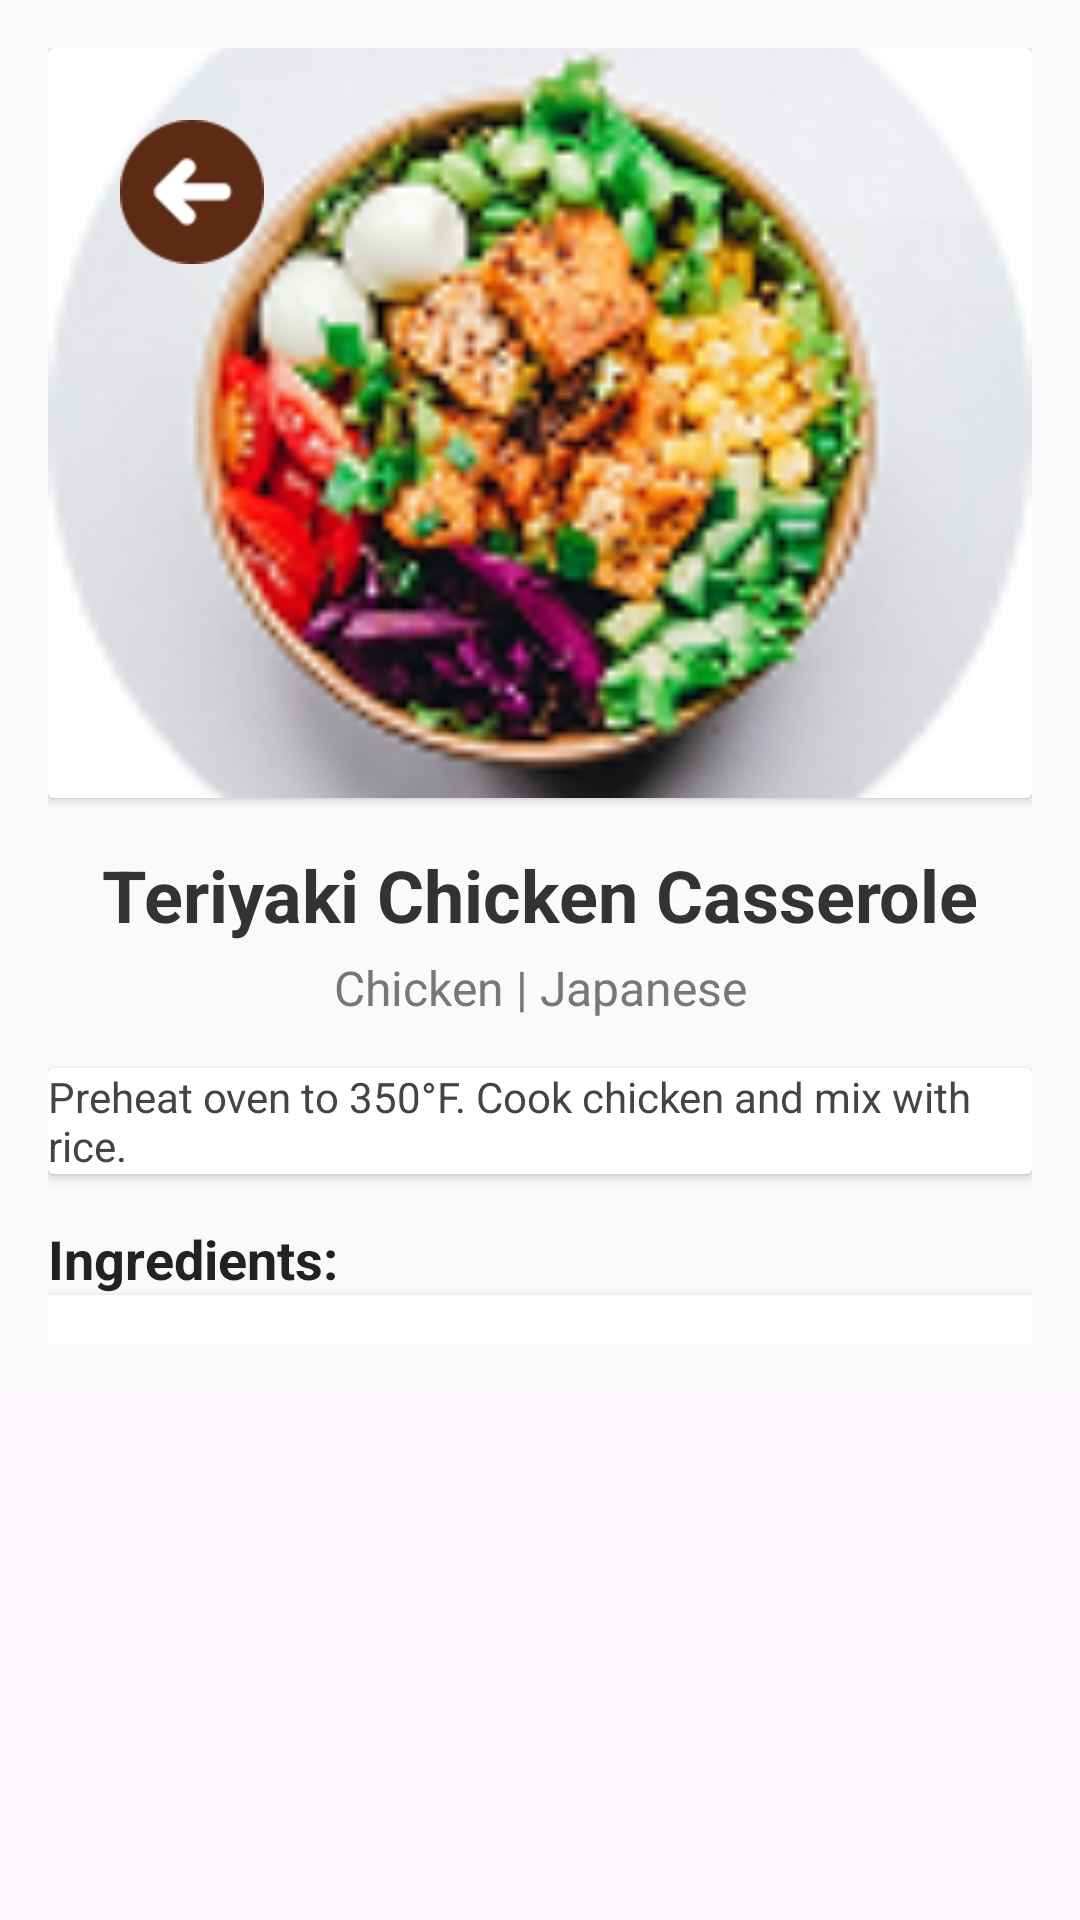

Named icons in this screenshot (1080w x 1920h) and their centers, [x,y]:
Go back: [192,192]
